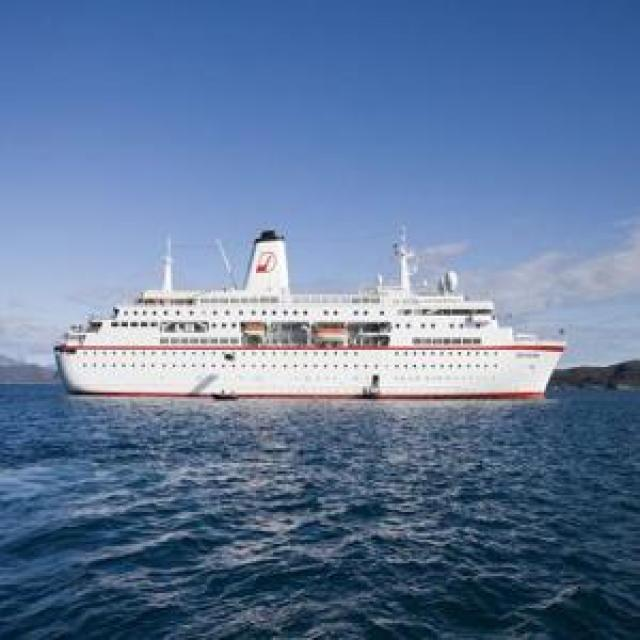passenger ship: (57, 228, 561, 399)
